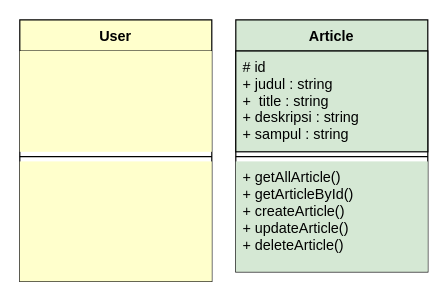
This 448x301 diagram has some shape labels left out. Here are the shapes that lost their labels. From the top down, the centre of each, then its label:
[115,100]: # id + nama : string + nim : stirng + title : string + sampul : string
[115,221]: + getAllUser() + getUserById() + createUser() + updateUser() + deleteUser()
